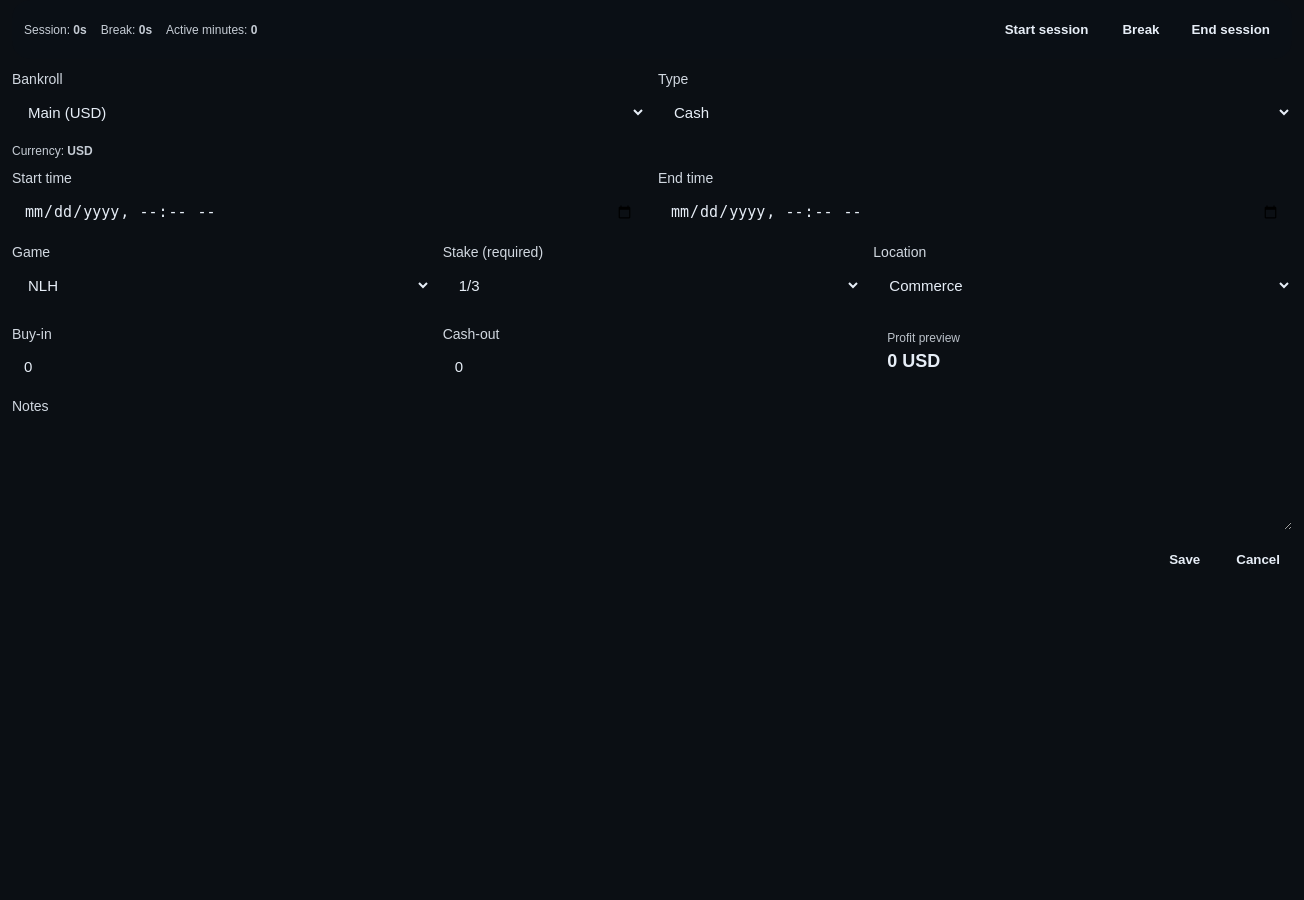
Test: EntryForm › shows an error when end time is before start time
Type "2026-03-01T12:00" into the field labelled "Start time" at {"x": 329, "y": 212}, box [12,192,646,232]
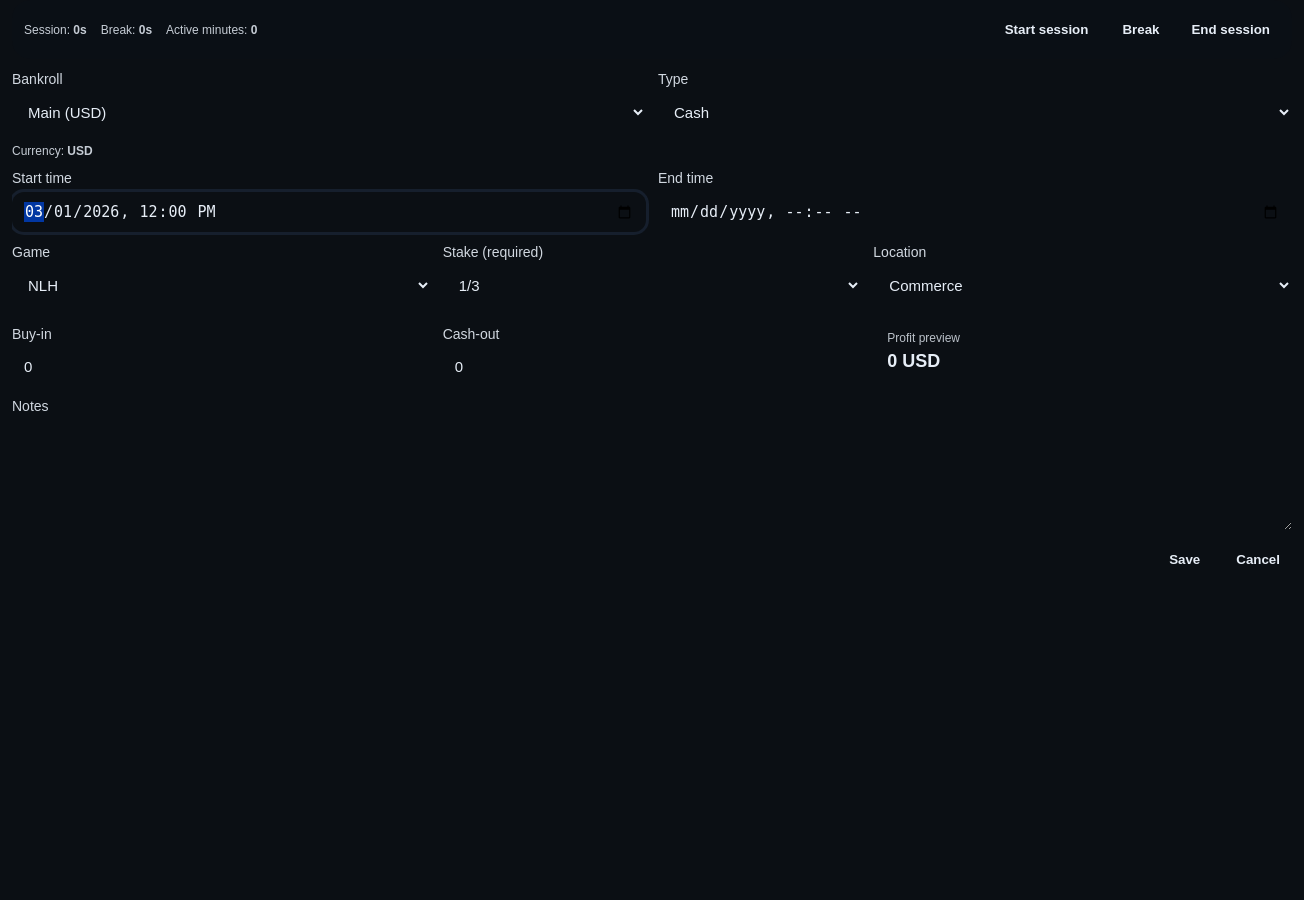
Type "2026-03-01T11:00" into the field labelled "End time" at {"x": 975, "y": 212}, box [658,192,1292,232]
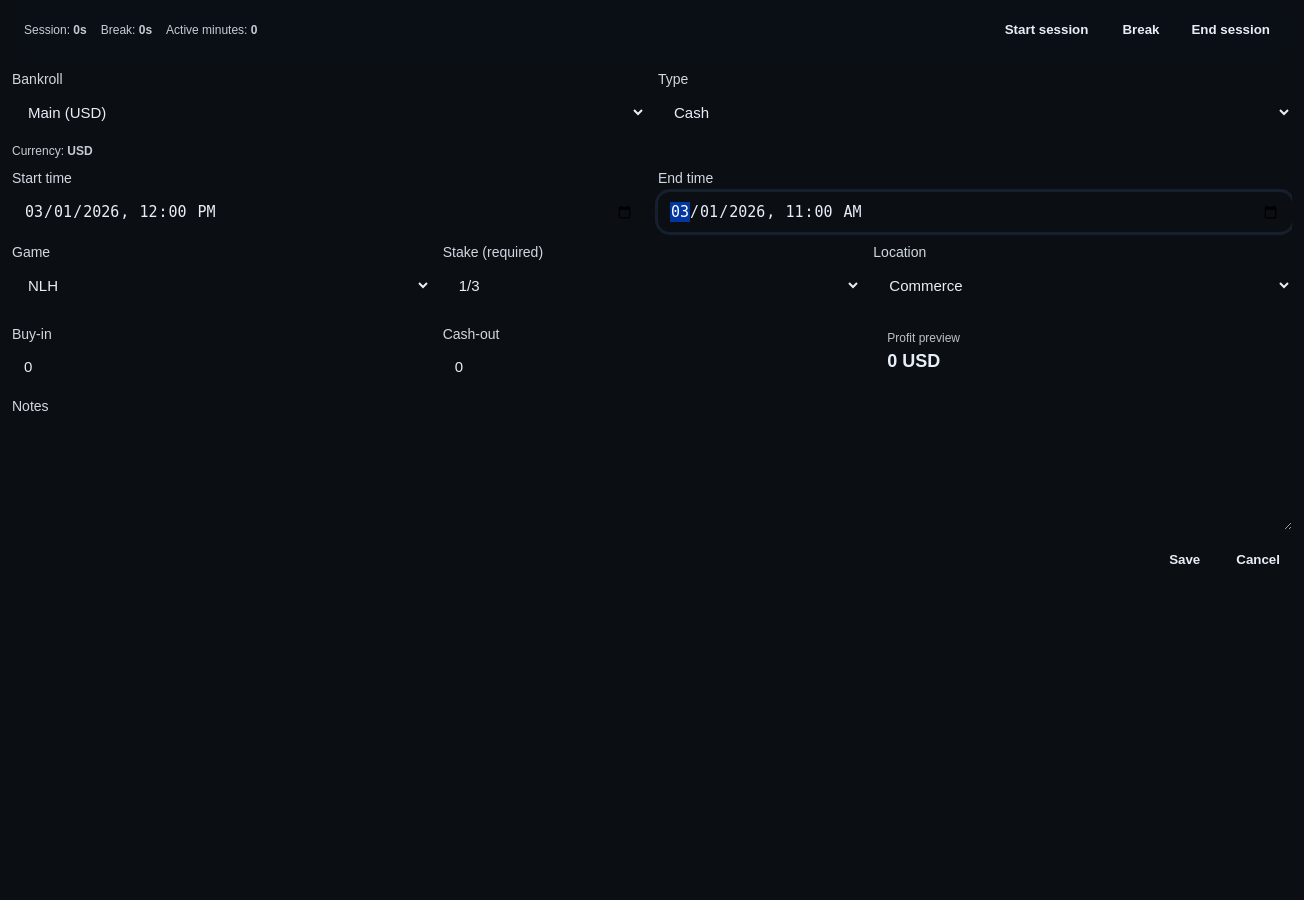
Click the button "Save" at {"x": 1185, "y": 560}, box [1157,542,1212,577]
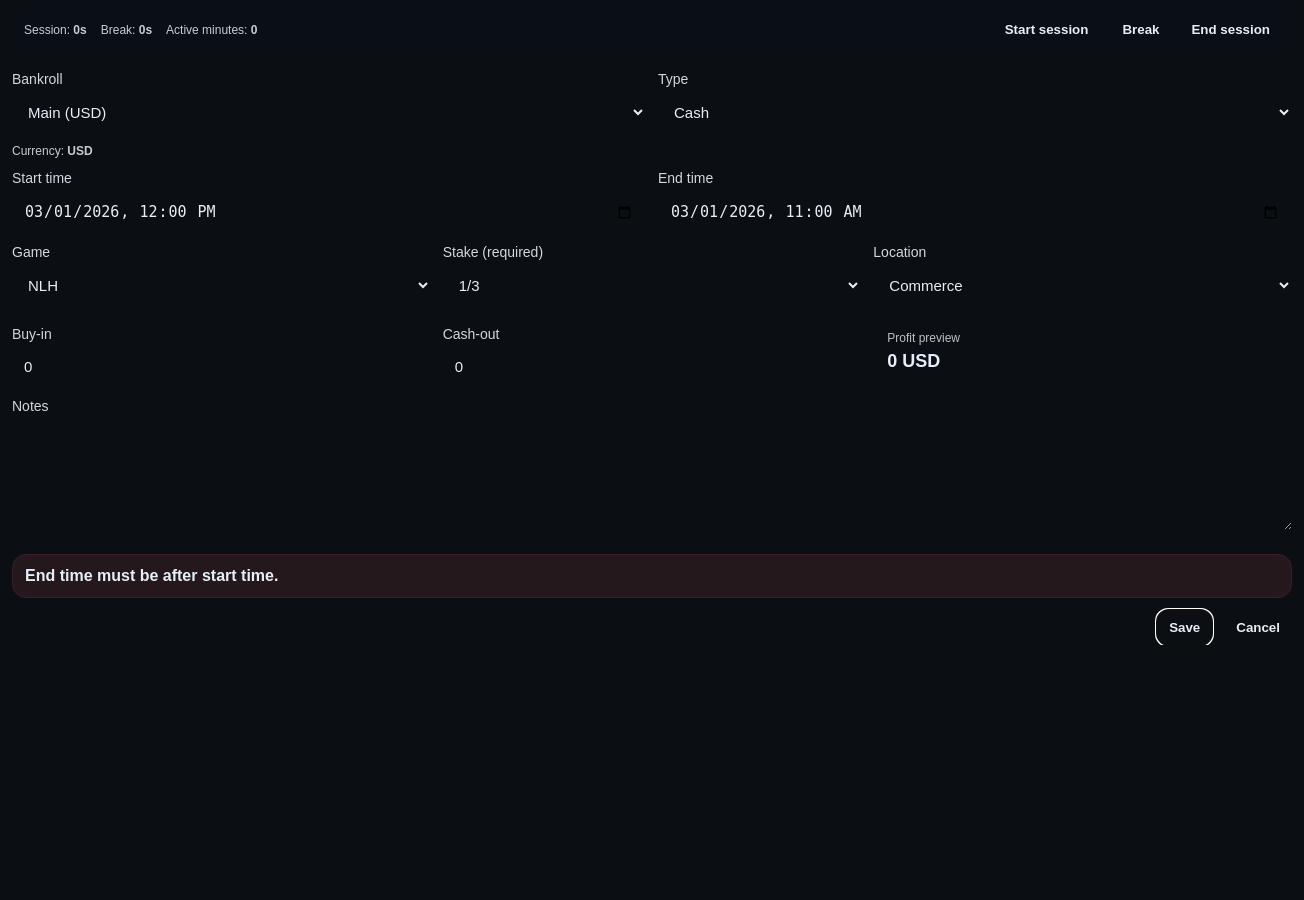
Result: the text "End time must be after start time." is shown at [12,554,1292,598]
